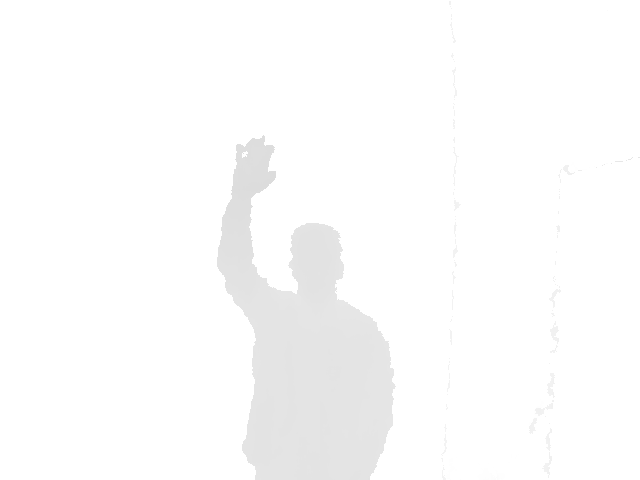hand: (231, 133, 277, 194)
head: (290, 223, 345, 295)
person: (215, 134, 397, 480)
